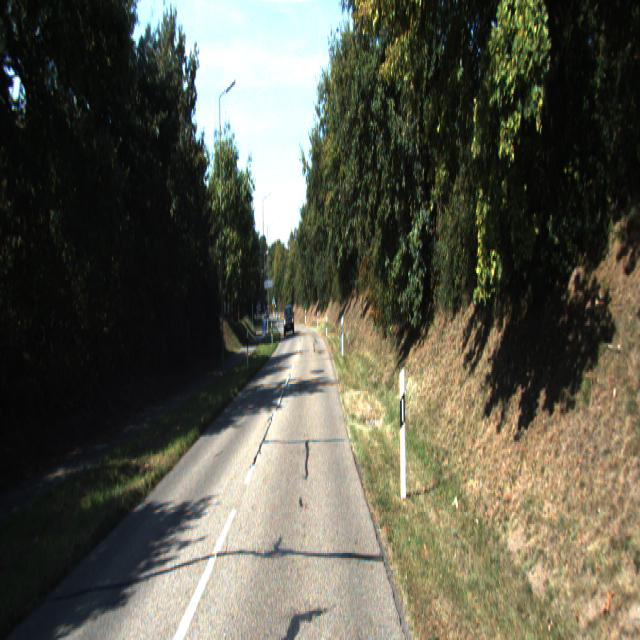Car: (282, 302, 295, 341)
